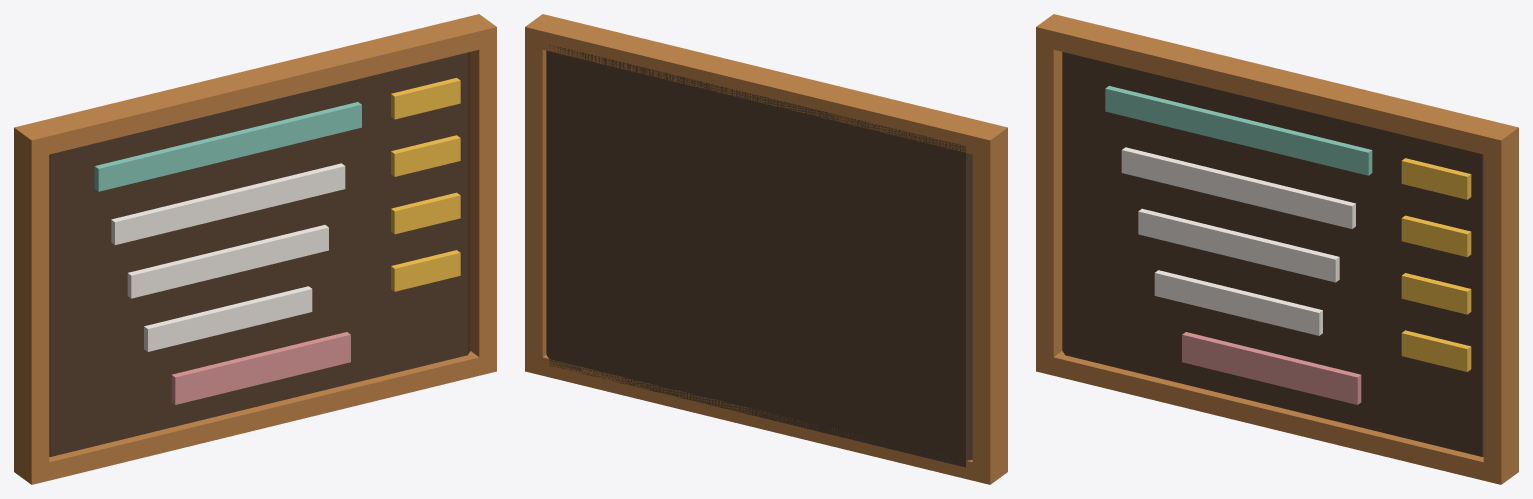
File: CatCafe_Decor_MenuBoard.glb
3 renders of one model, left to right at view 1: azimuth 30°, elevation 25°; view 2: azimuth 150°, elevation 25°; view 3: azimuth 330°, elevation 25°, orthographic.
Visible parts, largest first — view 1: CatCafe_Decor_MenuBoard; view 2: CatCafe_Decor_MenuBoard; view 3: CatCafe_Decor_MenuBoard.
Part boxes in pixels (x1=…): CatCafe_Decor_MenuBoard: x1=14, y1=14, x2=496, y2=484; CatCafe_Decor_MenuBoard: x1=525, y1=14, x2=1007, y2=484; CatCafe_Decor_MenuBoard: x1=1036, y1=14, x2=1518, y2=484.
Bounding box in the file's own units: 2.12 × 1.5 × 0.14.
1 material, 1 textured.
